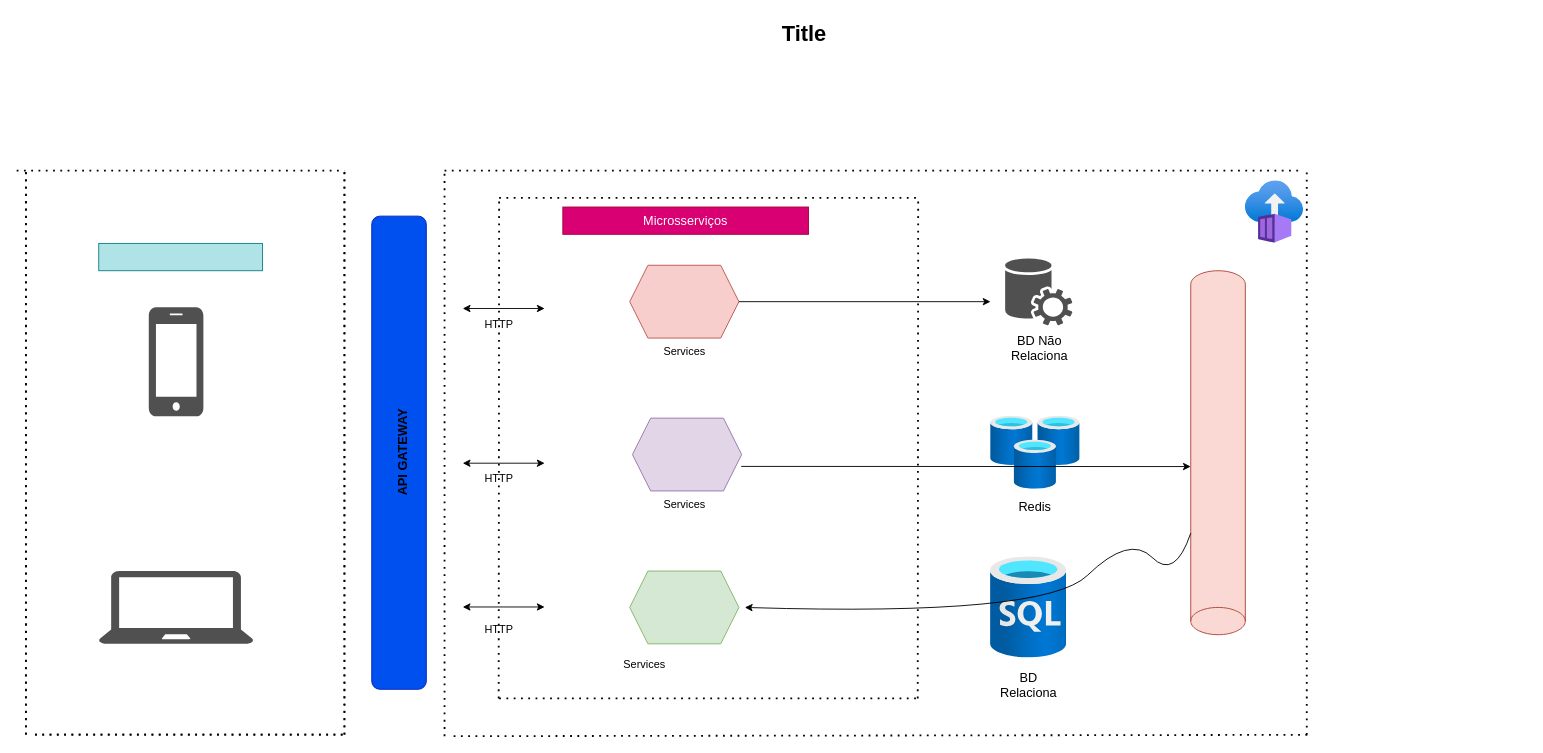
This 1543x753 diagram has some shape labels left out. Each missing label, with the centre of its shape:
"Client Apps" belongs at (180,257).
"Serviço de Mensageria" belongs at (1217,452).
